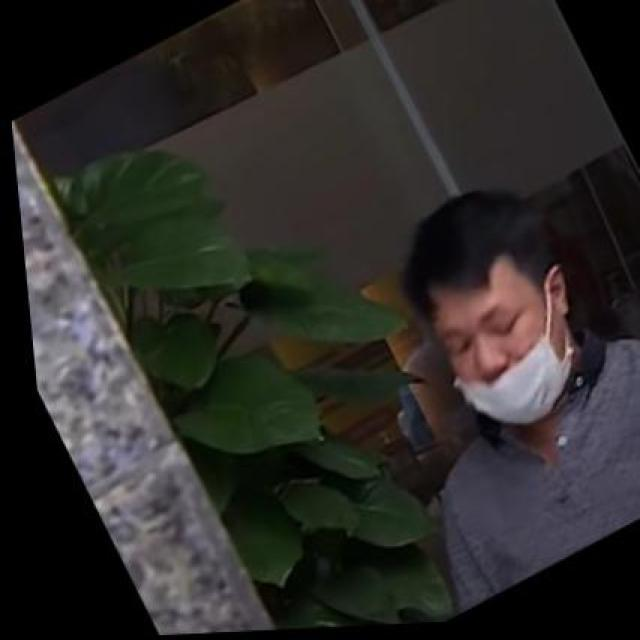hairnet: (414, 284, 574, 450)
